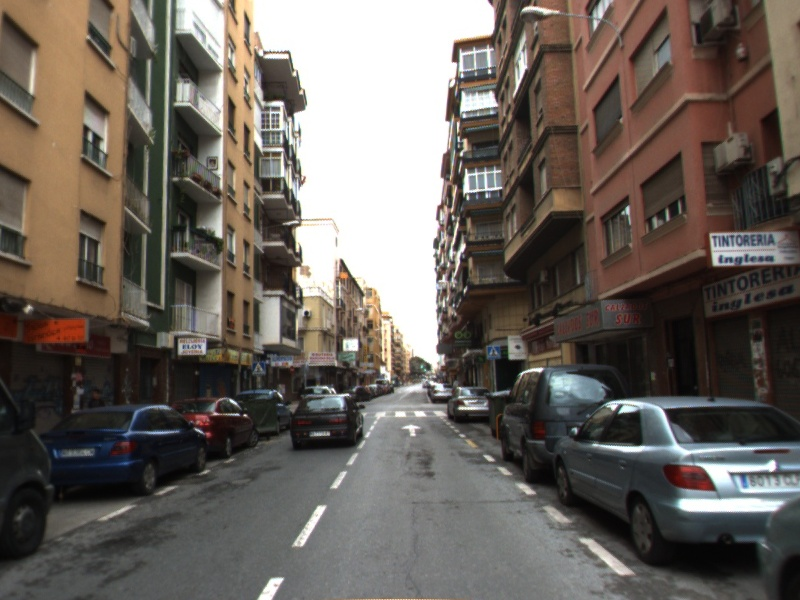STRAIGHT: (399, 422, 424, 439)
